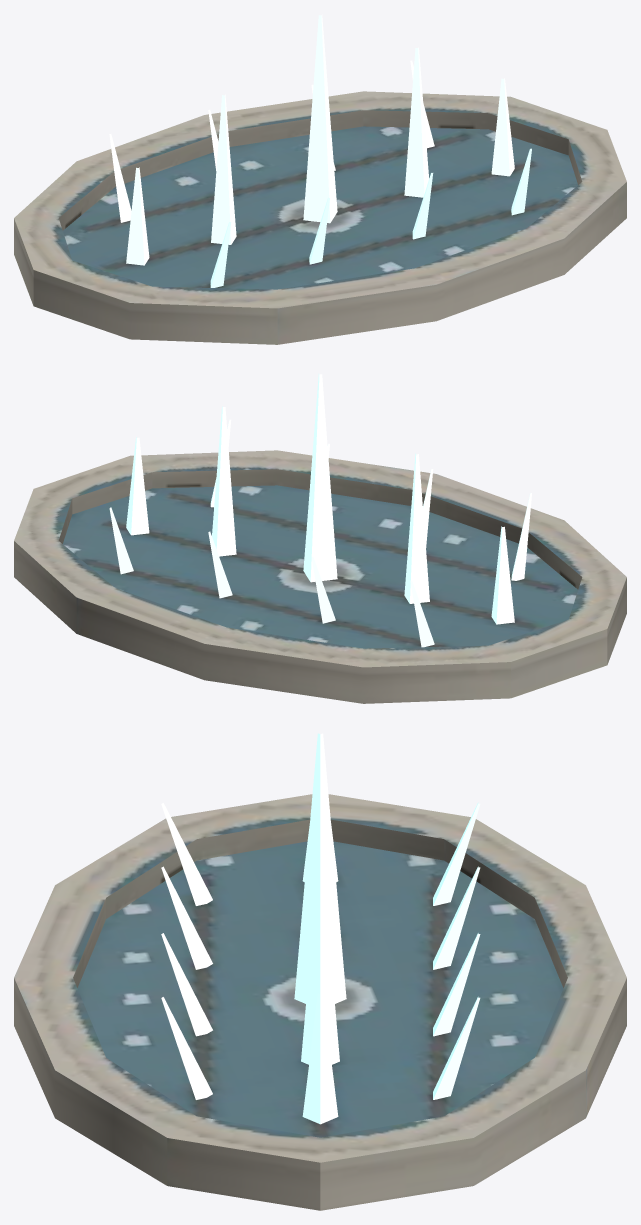
The model's file is musical_fountain.glb.
3 views of the same model, one above another, from view 1: azimuth 30°, elevation 25°; view 2: azimuth 150°, elevation 25°; view 3: azimuth 270°, elevation 25° (orthographic). The views are drawn at different scales.
Parts seen in each view (by area): view 1: musical_fountain_body, jets; view 2: musical_fountain_body, jets; view 3: musical_fountain_body, jets.
Boxes of the visible parts, x1,y1,x2,y2 form: musical_fountain_body: (14, 91, 626, 344); jets: (109, 14, 531, 287); musical_fountain_body: (14, 450, 626, 703); jets: (109, 373, 531, 647); musical_fountain_body: (14, 794, 626, 1210); jets: (161, 733, 480, 1124).
Bounding box in the file's own units: 26.7 × 9.85 × 18.7.
Materials: 2 (1 with a texture image).
